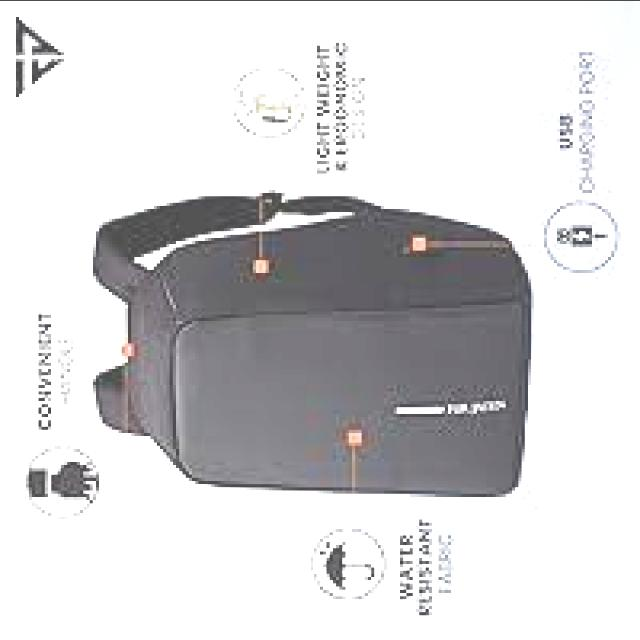backpack: (91, 193, 533, 500)
